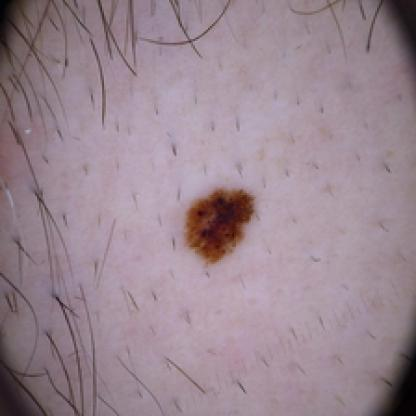benign: (175, 171, 269, 267)
